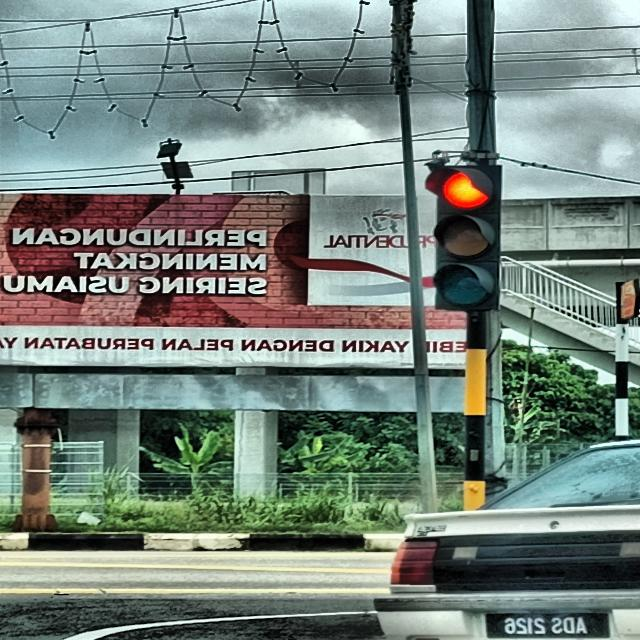red: (431, 165, 503, 311)
